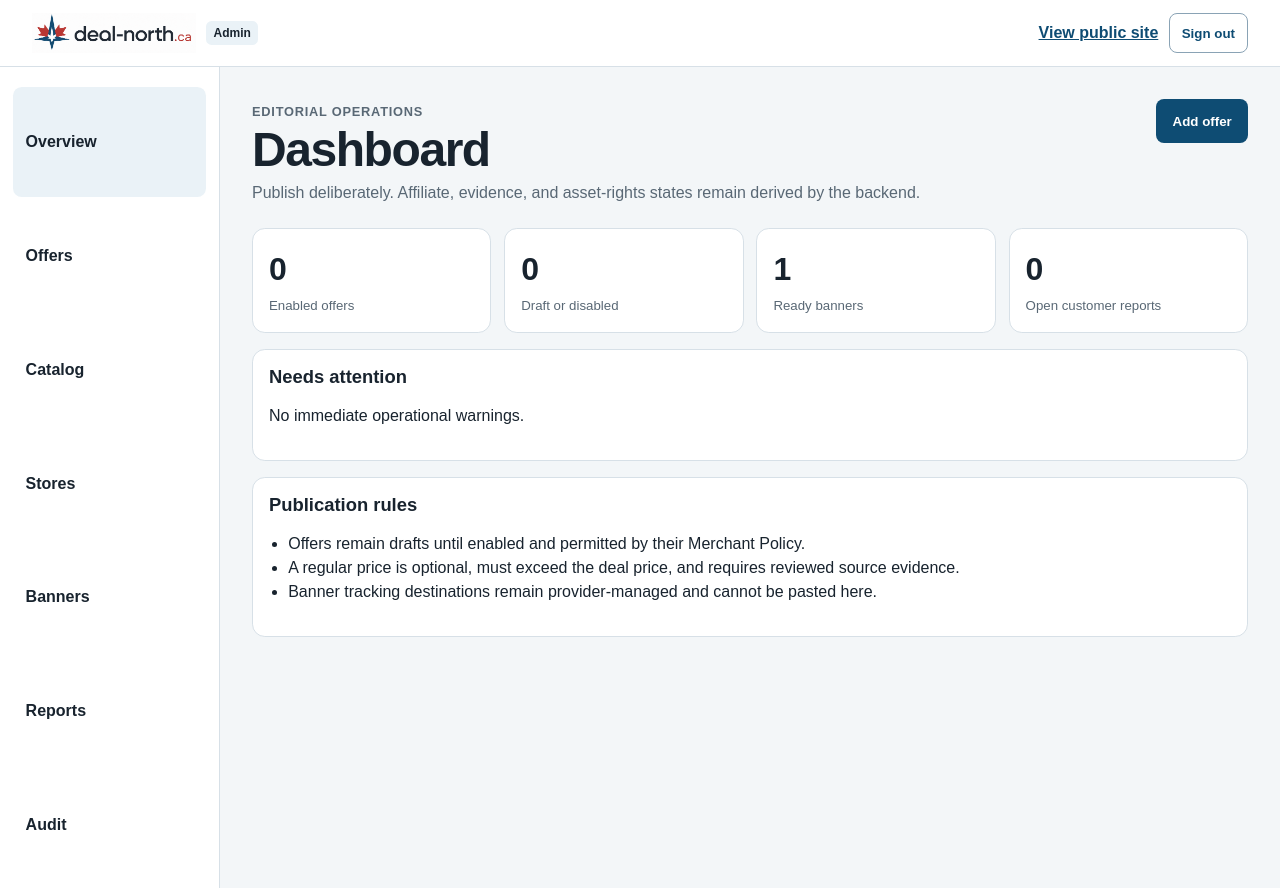
Test case: AdminPanel › lets the owner select carousel banners and exposes the reviewed artwork workflow
This screenshot has width=1280, height=888.
Click the button "Banners".
click(110, 597)  # box [13,542,206,652]
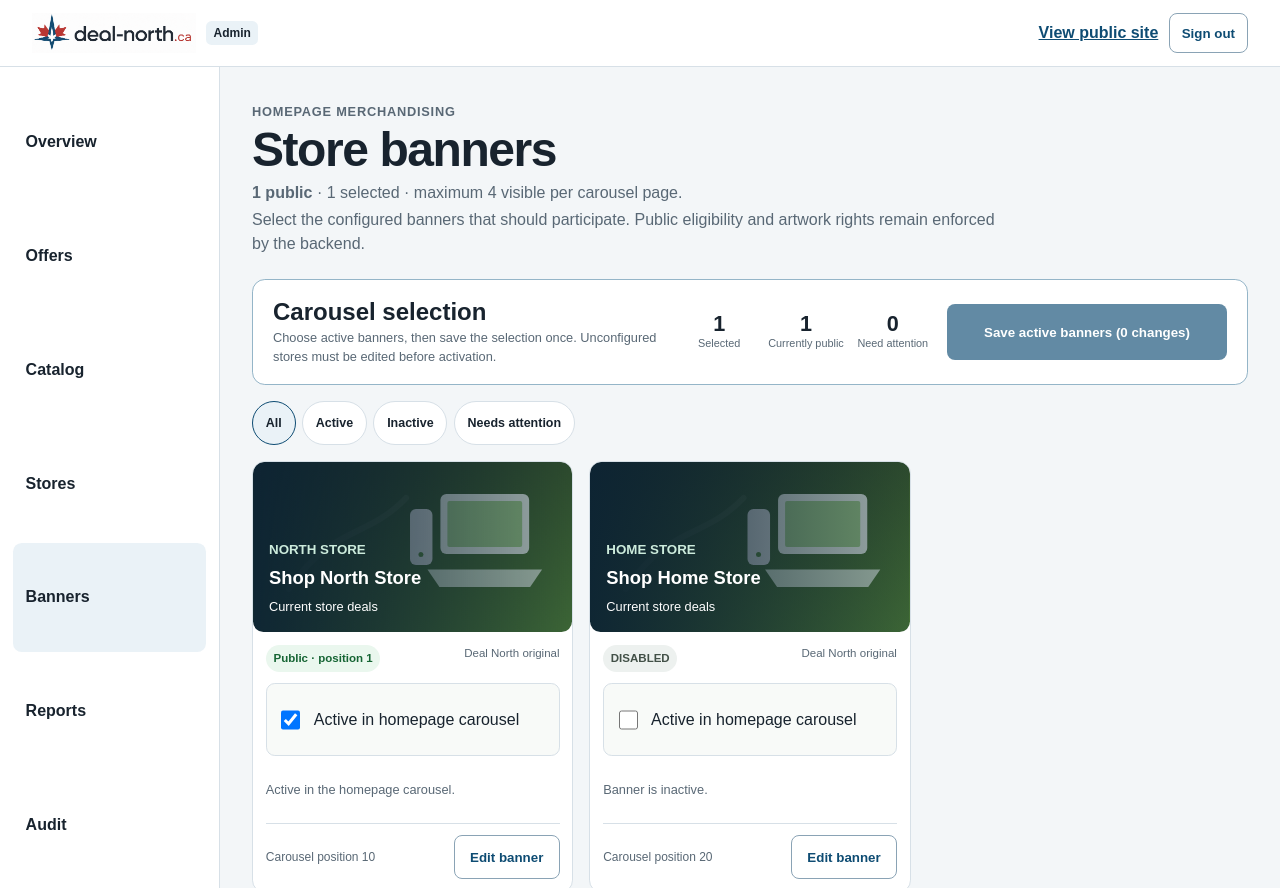
Result: the text "Selected" is shown at [698,337,740,349]
Result: the 1st text "1" is shown at [713,311,725,336]
Result: the text "Currently public" is shown at [768,337,844,351]
Click the button "Edit banner" next to "10".
click(507, 857)  # box [454,835,560,879]
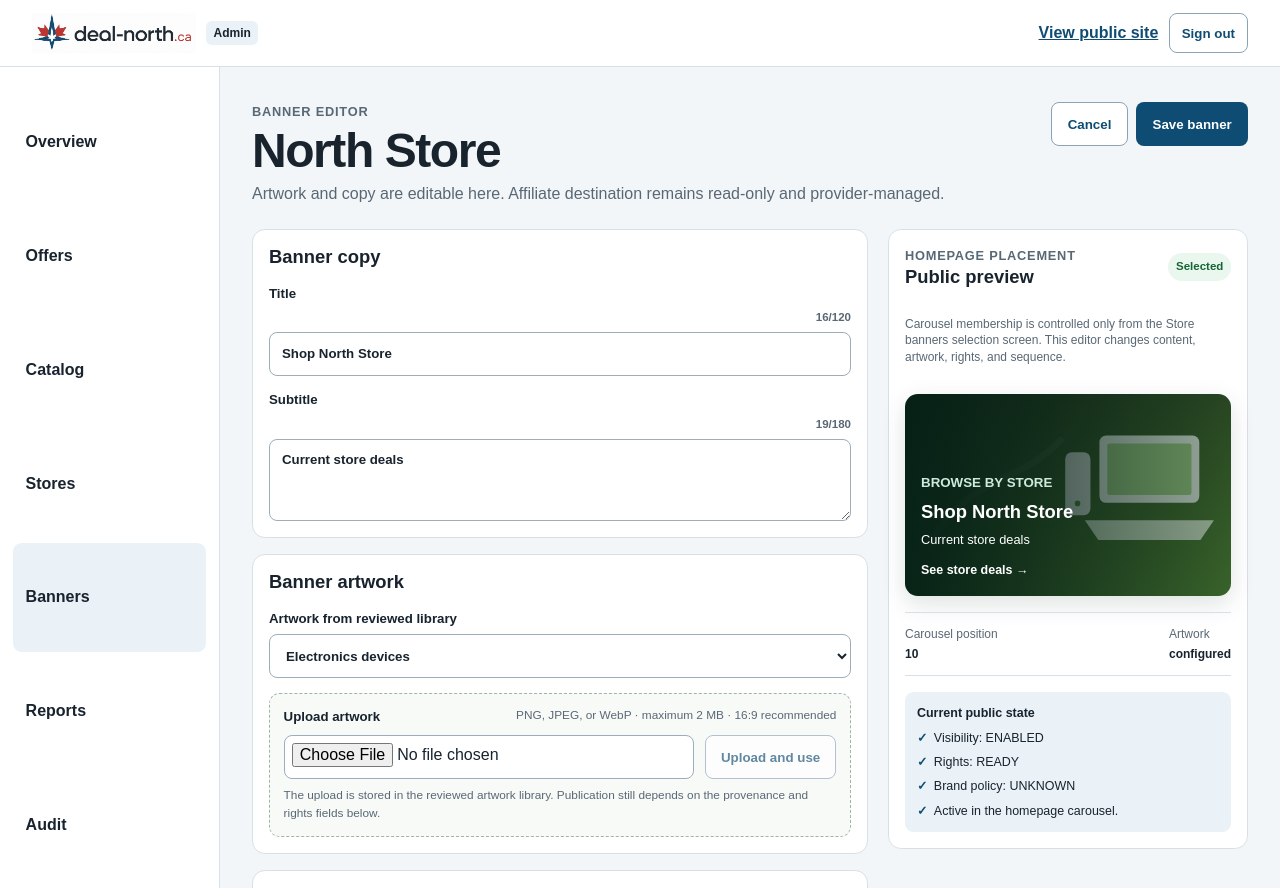
Result: the heading "Public preview" is shown at [905,266,1034,286]
Result: the dropdown labelled "Artwork from reviewed library" is shown at [269,634,851,678]
Result: the text "Carousel membership is controlled only" is shown at [905,317,1196,364]
